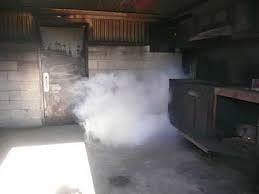smoke: (66, 62, 198, 151)
